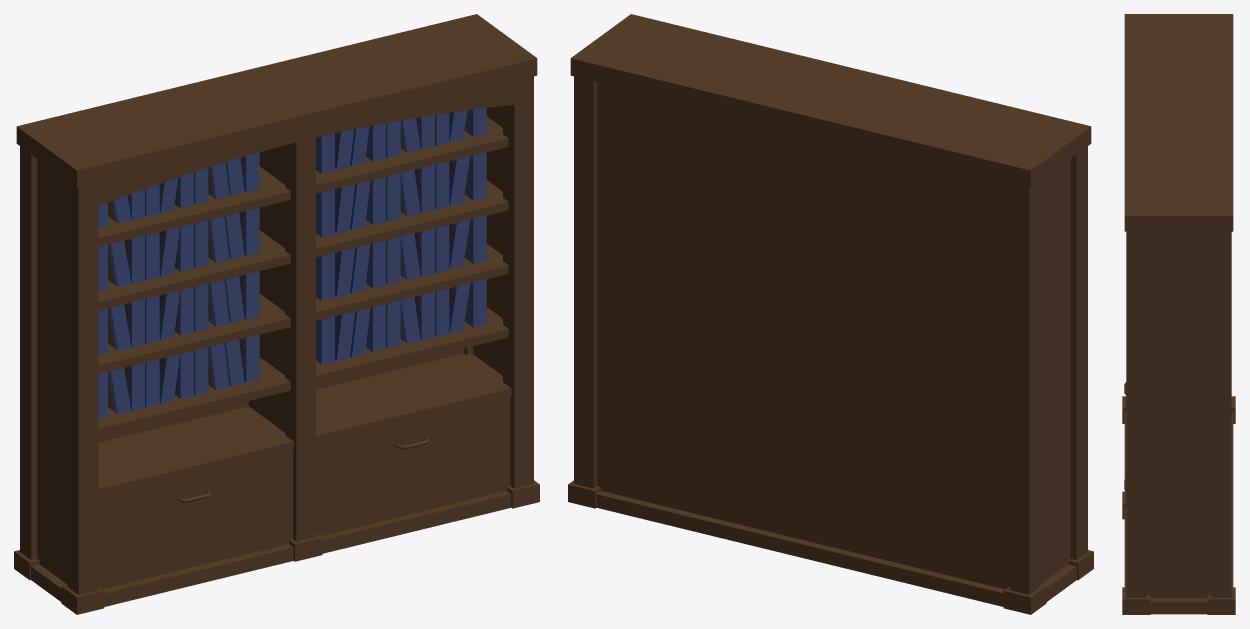
The model's file is bookshelfBlue.fbx.
3 renders of one model, left to right at view 1: azimuth 30°, elevation 25°; view 2: azimuth 150°, elevation 25°; view 3: azimuth 270°, elevation 25°, orthographic. The views are drawn at different scales.
Parts seen in each view (by area): view 1: bookshelfBlue; view 2: bookshelfBlue; view 3: bookshelfBlue.
Part boxes in pixels (x1,y1,x2,y2): bookshelfBlue: (14, 14, 539, 614); bookshelfBlue: (568, 14, 1093, 614); bookshelfBlue: (1122, 14, 1235, 614).
Bounding box in the file's own units: 300 × 275 × 70.87.
